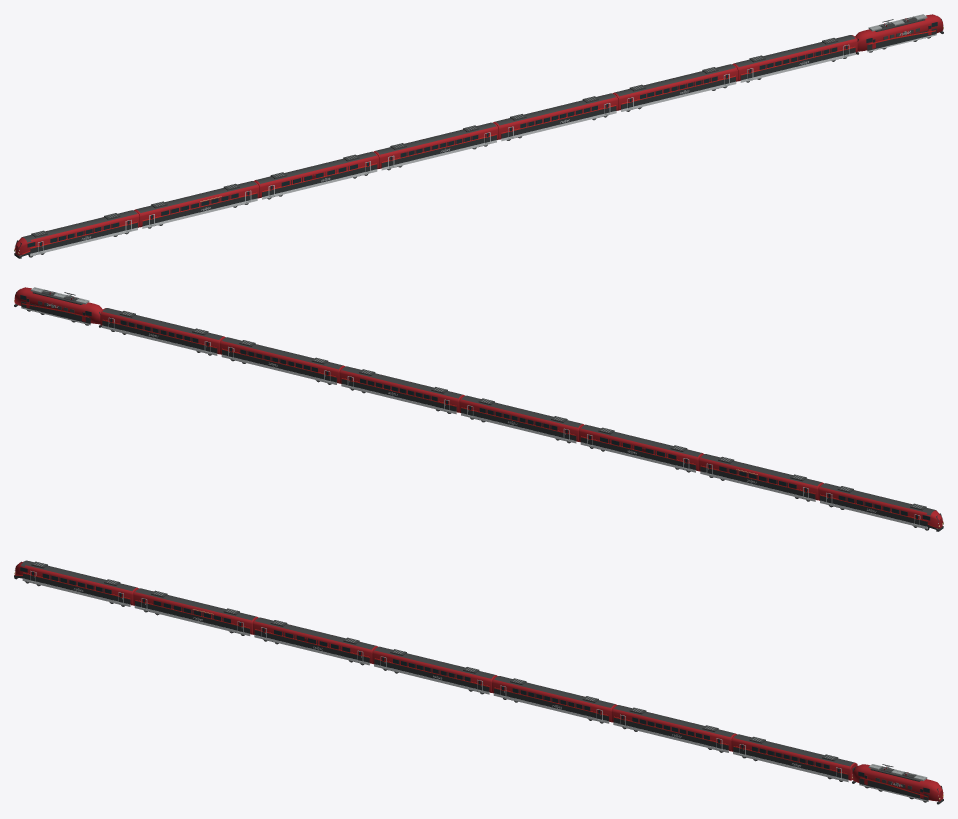
The model's file is railjet-classic-livery-v2.glb.
3 views of the same model, one above another, from view 1: azimuth 30°, elevation 25°; view 2: azimuth 150°, elevation 25°; view 3: azimuth 330°, elevation 25° (orthographic).
Visible parts, largest first — view 1: taurus_lofted_body.001, driving_trailer_lofted_body.001, railjet_first_lofted_body.001, railjet_economy_lofted_body.004, railjet_economy_lofted_body.001, railjet_economy_lofted_body.002, railjet_restaurant_lofted_body.001, railjet_economy_lofted_body.003, economy_graphite_flank_-1.001, economy_graphite_flank_-1.004, first_graphite_flank_-1.001, economy_graphite_flank_-1.003 (+10 smaller); view 2: taurus_lofted_body.001, driving_trailer_lofted_body.001, railjet_first_lofted_body.001, railjet_economy_lofted_body.004, railjet_economy_lofted_body.001, railjet_economy_lofted_body.002, railjet_restaurant_lofted_body.001, railjet_economy_lofted_body.003, economy_graphite_flank_1.001, economy_graphite_flank_1.004, first_graphite_flank_1.001, economy_graphite_flank_1.003 (+10 smaller); view 3: taurus_lofted_body.001, railjet_economy_lofted_body.001, railjet_economy_lofted_body.003, railjet_economy_lofted_body.004, railjet_restaurant_lofted_body.001, railjet_first_lofted_body.001, railjet_economy_lofted_body.002, driving_trailer_lofted_body.001, economy_graphite_flank_-1.003, economy_graphite_flank_-1.004, restaurant_graphite_flank_-1.001, first_graphite_flank_-1.001 (+10 smaller).
Boxes of the visible parts, x1,y1,x2,y2 form: taurus_lofted_body.001: (855, 14, 943, 51); driving_trailer_lofted_body.001: (15, 210, 139, 255); railjet_first_lofted_body.001: (134, 181, 259, 227); railjet_economy_lofted_body.004: (373, 122, 498, 168); railjet_economy_lofted_body.001: (732, 35, 857, 81); railjet_economy_lofted_body.002: (613, 64, 737, 110); railjet_restaurant_lofted_body.001: (254, 151, 378, 198); railjet_economy_lofted_body.003: (493, 93, 618, 139); economy_graphite_flank_-1.001: (740, 47, 855, 80); economy_graphite_flank_-1.004: (381, 135, 496, 167); first_graphite_flank_-1.001: (142, 193, 257, 226); economy_graphite_flank_-1.003: (501, 106, 616, 138); taurus_lofted_body.001: (14, 287, 102, 324); driving_trailer_lofted_body.001: (818, 483, 942, 528); railjet_first_lofted_body.001: (698, 454, 823, 500); railjet_economy_lofted_body.004: (459, 395, 584, 441); railjet_economy_lofted_body.001: (100, 308, 225, 354); railjet_economy_lofted_body.002: (220, 337, 344, 383); railjet_restaurant_lofted_body.001: (579, 424, 703, 471); railjet_economy_lofted_body.003: (339, 366, 464, 412); economy_graphite_flank_1.001: (102, 320, 217, 353); economy_graphite_flank_1.004: (461, 408, 576, 440); first_graphite_flank_1.001: (700, 466, 815, 499); economy_graphite_flank_1.003: (341, 379, 456, 411); taurus_lofted_body.001: (852, 764, 943, 801); railjet_economy_lofted_body.001: (731, 734, 857, 780); railjet_economy_lofted_body.003: (492, 676, 616, 722); railjet_economy_lofted_body.004: (372, 647, 497, 692); railjet_restaurant_lofted_body.001: (253, 617, 377, 663); railjet_first_lofted_body.001: (133, 588, 258, 634); railjet_economy_lofted_body.002: (611, 705, 736, 751); driving_trailer_lofted_body.001: (15, 561, 138, 605); economy_graphite_flank_-1.003: (494, 688, 608, 721); economy_graphite_flank_-1.004: (374, 659, 489, 691); restaurant_graphite_flank_-1.001: (254, 630, 369, 662); first_graphite_flank_-1.001: (135, 601, 249, 633).
Bounding box in the file's own units: 206 × 5.54 × 3.35.
